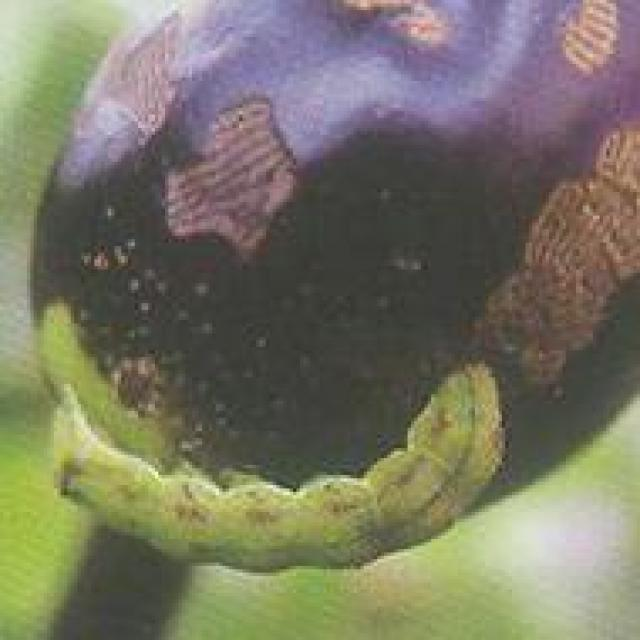armyworm: (33, 348, 522, 597)
